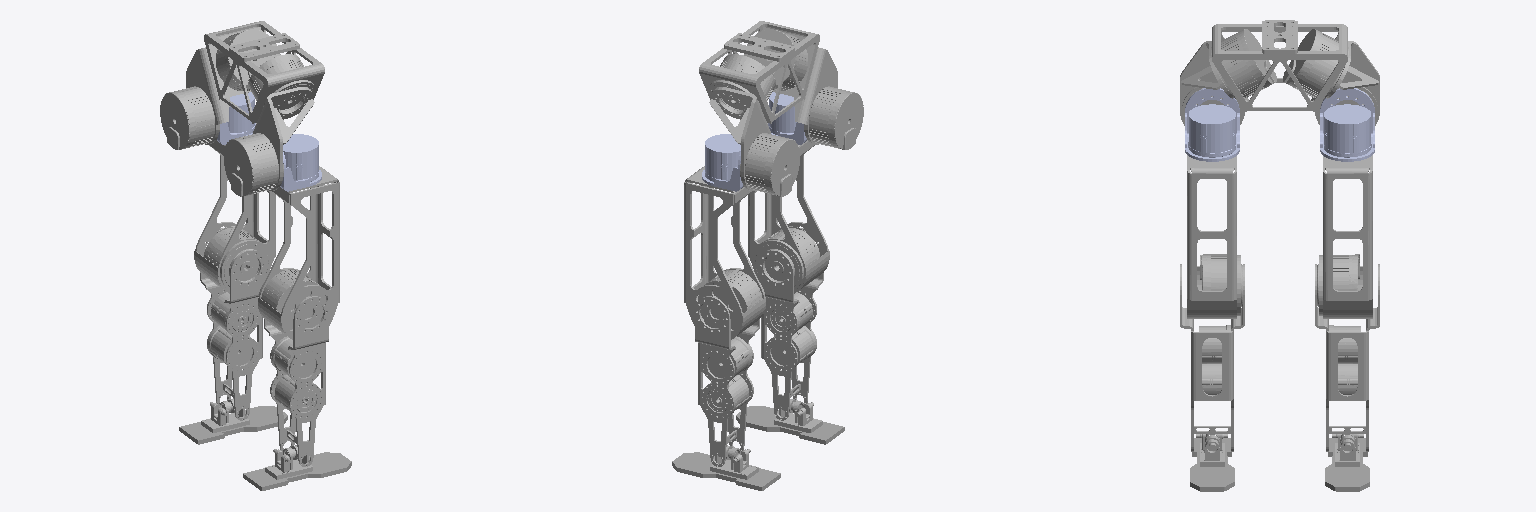
URDF robot description (speed160):
<?xml version="1.0" encoding="utf-8"?>
<!-- This URDF was automatically created by SolidWorks to URDF Exporter! Originally created by Stephen Brawner (brawner@gmail.com) 
     Commit Version: 1.6.0-4-g7f85cfe  Build Version: 1.6.7995.38578
     For more information, please see http://wiki.ros.org/sw_urdf_exporter -->
<robot
  name="speed160">
  <link
    name="base_link">
    <inertial>
      <origin
        xyz="-2.0253E-17 2.5484E-17 0.076322"
        rpy="0 0 0" />
      <mass
        value="7.2549" />
      <inertia
        ixx="0.028957"
        ixy="-1.9355E-19"
        ixz="-8.6363E-18"
        iyy="0.01703"
        iyz="-3.8642E-17"
        izz="0.030167" />
    </inertial>
    <visual>
      <origin
        xyz="0 0 0"
        rpy="0 0 0" />
      <geometry>
        <mesh
          filename="package://speed160/meshes/base_link.STL" />
      </geometry>
      <material
        name="">
        <color
          rgba="0.75294 0.75294 0.75294 1" />
      </material>
    </visual>
    <collision>
      <origin
        xyz="0 0 0"
        rpy="0 0 0" />
      <geometry>
        <mesh
          filename="package://speed160/meshes/base_link.STL" />
      </geometry>
    </collision>
  </link>
  <link
    name="right_hip_pitch">
    <inertial>
      <origin
        xyz="-0.084061 -0.058399 -0.10445"
        rpy="0 0 0" />
      <mass
        value="3.8012" />
      <inertia
        ixx="0.0092356"
        ixy="-0.00041669"
        ixz="-0.00083241"
        iyy="0.0081435"
        iyz="0.00012225"
        izz="0.0065418" />
    </inertial>
    <visual>
      <origin
        xyz="0 0 0"
        rpy="0 0 0" />
      <geometry>
        <mesh
          filename="package://speed160/meshes/right_hip_pitch.STL" />
      </geometry>
      <material
        name="">
        <color
          rgba="0.75294 0.75294 0.75294 1" />
      </material>
    </visual>
    <collision>
      <origin
        xyz="0 0 0"
        rpy="0 0 0" />
      <geometry>
        <mesh
          filename="package://speed160/meshes/right_hip_pitch.STL" />
      </geometry>
    </collision>
  </link>
  <joint
    name="right_hip_pitch_joint"
    type="revolute">
    <origin
      xyz="0 -0.074354 0.069542"
      rpy="0 0 0" />
    <parent
      link="base_link" />
    <child
      link="right_hip_pitch" />
    <axis
      xyz="0 0.86603 0.5" />
    <limit
      lower="-2.618"
      upper="2.618"
      effort="140"
      velocity="5" />
  </joint>
  <link
    name="right_hip_roll">
    <inertial>
      <origin
        xyz="0.092261 2.7756E-17 -0.018654"
        rpy="0 0 0" />
      <mass
        value="2.198" />
      <inertia
        ixx="0.0030256"
        ixy="-2.0877E-19"
        ixz="0.00041018"
        iyy="0.0030613"
        iyz="4.0871E-19"
        izz="0.0032475" />
    </inertial>
    <visual>
      <origin
        xyz="0 0 0"
        rpy="0 0 0" />
      <geometry>
        <mesh
          filename="package://speed160/meshes/right_hip_roll.STL" />
      </geometry>
      <material
        name="">
        <color
          rgba="0.79216 0.81961 0.93333 1" />
      </material>
    </visual>
    <collision>
      <origin
        xyz="0 0 0"
        rpy="0 0 0" />
      <geometry>
        <mesh
          filename="package://speed160/meshes/right_hip_roll.STL" />
      </geometry>
    </collision>
  </link>
  <joint
    name="right_hip_roll_joint"
    type="revolute">
    <origin
      xyz="-0.104 -0.060646 -0.13264"
      rpy="0 0 0" />
    <parent
      link="right_hip_pitch" />
    <child
      link="right_hip_roll" />
    <axis
      xyz="1 0 0" />
    <limit
      lower="-2.094"
      upper="0.8727"
      effort="140"
      velocity="5" />
  </joint>
  <link
    name="right_hip_yaw">
    <inertial>
      <origin
        xyz="0.013525 0.0064029 -0.27472"
        rpy="0 0 0" />
      <mass
        value="4.9199" />
      <inertia
        ixx="0.038644"
        ixy="-0.00038539"
        ixz="-0.00065051"
        iyy="0.04081"
        iyz="-0.0018953"
        izz="0.012657" />
    </inertial>
    <visual>
      <origin
        xyz="0 0 0"
        rpy="0 0 0" />
      <geometry>
        <mesh
          filename="package://speed160/meshes/right_hip_yaw.STL" />
      </geometry>
      <material
        name="">
        <color
          rgba="0.75294 0.75294 0.75294 1" />
      </material>
    </visual>
    <collision>
      <origin
        xyz="0 0 0"
        rpy="0 0 0" />
      <geometry>
        <mesh
          filename="package://speed160/meshes/right_hip_yaw.STL" />
      </geometry>
    </collision>
  </link>
  <joint
    name="right_hip_yaw_joint"
    type="revolute">
    <origin
      xyz="0.1045 0 -0.0135"
      rpy="0 0 0" />
    <parent
      link="right_hip_roll" />
    <child
      link="right_hip_yaw" />
    <axis
      xyz="0 0 1" />
    <limit
      lower="-2.618"
      upper="2.618"
      effort="140"
      velocity="5" />
  </joint>
  <link
    name="right_knee">
    <inertial>
      <origin
        xyz="0.0054816 -0.0185 -0.15453"
        rpy="0 0 0" />
      <mass
        value="3.3922" />
      <inertia
        ixx="0.020574"
        ixy="4.7133E-14"
        ixz="0.00031949"
        iyy="0.018277"
        iyz="1.8231E-16"
        izz="0.0063665" />
    </inertial>
    <visual>
      <origin
        xyz="0 0 0"
        rpy="0 0 0" />
      <geometry>
        <mesh
          filename="package://speed160/meshes/right_knee.STL" />
      </geometry>
      <material
        name="">
        <color
          rgba="0.75294 0.75294 0.75294 1" />
      </material>
    </visual>
    <collision>
      <origin
        xyz="0 0 0"
        rpy="0 0 0" />
      <geometry>
        <mesh
          filename="package://speed160/meshes/right_knee.STL" />
      </geometry>
    </collision>
  </link>
  <joint
    name="right_knee_joint"
    type="revolute">
    <origin
      xyz="0 0.0185 -0.3395"
      rpy="0 0 0" />
    <parent
      link="right_hip_yaw" />
    <child
      link="right_knee" />
    <axis
      xyz="0 1 0" />
    <limit
      lower="-0.087"
      upper="2.583"
      effort="140"
      velocity="5" />
  </joint>
  <link
    name="right_ankle_pitch">
    <inertial>
      <origin
        xyz="-0.016544 1.6067E-06 -0.022535"
        rpy="0 0 0" />
      <mass
        value="0.65223" />
      <inertia
        ixx="0.000169"
        ixy="8.0747E-08"
        ixz="-2.0792E-05"
        iyy="0.00035201"
        iyz="1.8158E-08"
        izz="0.00040372" />
    </inertial>
    <visual>
      <origin
        xyz="0 0 0"
        rpy="0 0 0" />
      <geometry>
        <mesh
          filename="package://speed160/meshes/right_ankle_pitch.STL" />
      </geometry>
      <material
        name="">
        <color
          rgba="0.75294 0.75294 0.75294 1" />
      </material>
    </visual>
    <collision>
      <origin
        xyz="0 0 0"
        rpy="0 0 0" />
      <geometry>
        <mesh
          filename="package://speed160/meshes/right_ankle_pitch.STL" />
      </geometry>
    </collision>
  </link>
  <joint
    name="right_ankle_pitch_joint"
    type="revolute">
    <origin
      xyz="0 -0.0185 -0.347"
      rpy="0 0 0" />
    <parent
      link="right_knee" />
    <child
      link="right_ankle_pitch" />
    <axis
      xyz="0 1 0" />
    <limit
      lower="-1.012"
      upper="0.611"
      effort="42"
      velocity="13.6" />
  </joint>
  <link
    name="right_ankle_roll">
    <inertial>
      <origin
        xyz="0.0083987 -0.00011282 -0.045"
        rpy="0 0 0" />
      <mass
        value="0.48193" />
      <inertia
        ixx="0.00025681"
        ixy="-2.1944E-18"
        ixz="-5.7694E-20"
        iyy="0.0021729"
        iyz="6.275E-22"
        izz="0.0024217" />
    </inertial>
    <visual>
      <origin
        xyz="0 0 0"
        rpy="0 0 0" />
      <geometry>
        <mesh
          filename="package://speed160/meshes/right_ankle_roll.STL" />
      </geometry>
      <material
        name="">
        <color
          rgba="0.69804 0.69804 0.69804 1" />
      </material>
    </visual>
    <collision>
      <origin
        xyz="0 0 0"
        rpy="0 0 0" />
      <geometry>
        <mesh
          filename="package://speed160/meshes/right_ankle_roll.STL" />
      </geometry>
    </collision>
  </link>
  <joint
    name="right_ankle_roll_joint"
    type="revolute">
    <origin
      xyz="0 0 0"
      rpy="0 0 0" />
    <parent
      link="right_ankle_pitch" />
    <child
      link="right_ankle_roll" />
    <axis
      xyz="1 0 0" />
    <limit
      lower="-0.436"
      upper="0.436"
      effort="42"
      velocity="13.6" />
  </joint>
  <link
    name="left_hip_pitch">
    <inertial>
      <origin
        xyz="-0.084061 0.058399 -0.10445"
        rpy="0 0 0" />
      <mass
        value="3.8012" />
      <inertia
        ixx="0.0092356"
        ixy="0.00041669"
        ixz="-0.00083241"
        iyy="0.0081435"
        iyz="-0.00012225"
        izz="0.0065418" />
    </inertial>
    <visual>
      <origin
        xyz="0 0 0"
        rpy="0 0 0" />
      <geometry>
        <mesh
          filename="package://speed160/meshes/left_hip_pitch.STL" />
      </geometry>
      <material
        name="">
        <color
          rgba="0.75294 0.75294 0.75294 1" />
      </material>
    </visual>
    <collision>
      <origin
        xyz="0 0 0"
        rpy="0 0 0" />
      <geometry>
        <mesh
          filename="package://speed160/meshes/left_hip_pitch.STL" />
      </geometry>
    </collision>
  </link>
  <joint
    name="left_hip_pitch_joint"
    type="revolute">
    <origin
      xyz="0 0.074354 0.069542"
      rpy="0 0 0" />
    <parent
      link="base_link" />
    <child
      link="left_hip_pitch" />
    <axis
      xyz="0 0.86603 -0.5" />
    <limit
      lower="-2.618"
      upper="2.618"
      effort="140"
      velocity="5" />
  </joint>
  <link
    name="left_hip_roll">
    <inertial>
      <origin
        xyz="0.09226 -6.4764E-07 -0.018654"
        rpy="0 0 0" />
      <mass
        value="2.198" />
      <inertia
        ixx="0.0030256"
        ixy="-5.3252E-19"
        ixz="0.00041018"
        iyy="0.0030613"
        iyz="-5.8926E-19"
        izz="0.0032475" />
    </inertial>
    <visual>
      <origin
        xyz="0 0 0"
        rpy="0 0 0" />
      <geometry>
        <mesh
          filename="package://speed160/meshes/left_hip_roll.STL" />
      </geometry>
      <material
        name="">
        <color
          rgba="0.79216 0.81961 0.93333 1" />
      </material>
    </visual>
    <collision>
      <origin
        xyz="0 0 0"
        rpy="0 0 0" />
      <geometry>
        <mesh
          filename="package://speed160/meshes/left_hip_roll.STL" />
      </geometry>
    </collision>
  </link>
  <joint
    name="left_hip_roll_joint"
    type="revolute">
    <origin
      xyz="-0.104 0.060646 -0.13264"
      rpy="0 0 0" />
    <parent
      link="left_hip_pitch" />
    <child
      link="left_hip_roll" />
    <axis
      xyz="1 0 0" />
    <limit
      lower="-0.8727"
      upper="2.094"
      effort="140"
      velocity="5" />
  </joint>
  <link
    name="left_hip_yaw">
    <inertial>
      <origin
        xyz="0.013527 -0.006402 -0.27472"
        rpy="0 0 0" />
      <mass
        value="4.9199" />
      <inertia
        ixx="0.038644"
        ixy="0.00038538"
        ixz="-0.00065049"
        iyy="0.04081"
        iyz="0.0018953"
        izz="0.012657" />
    </inertial>
    <visual>
      <origin
        xyz="0 0 0"
        rpy="0 0 0" />
      <geometry>
        <mesh
          filename="package://speed160/meshes/left_hip_yaw.STL" />
      </geometry>
      <material
        name="">
        <color
          rgba="0.75294 0.75294 0.75294 1" />
      </material>
    </visual>
    <collision>
      <origin
        xyz="0 0 0"
        rpy="0 0 0" />
      <geometry>
        <mesh
          filename="package://speed160/meshes/left_hip_yaw.STL" />
      </geometry>
    </collision>
  </link>
  <joint
    name="left_hip_yaw_joint"
    type="revolute">
    <origin
      xyz="0.1045 0 -0.0135"
      rpy="0 0 0" />
    <parent
      link="left_hip_roll" />
    <child
      link="left_hip_yaw" />
    <axis
      xyz="0 0 1" />
    <limit
      lower="-2.618"
      upper="2.618"
      effort="140"
      velocity="5" />
  </joint>
  <link
    name="left_knee">
    <inertial>
      <origin
        xyz="0.0054816 0.0185 -0.15453"
        rpy="0 0 0" />
      <mass
        value="3.3922" />
      <inertia
        ixx="0.020574"
        ixy="-9.2639E-14"
        ixz="0.00031949"
        iyy="0.018277"
        iyz="1.6747E-16"
        izz="0.0063665" />
    </inertial>
    <visual>
      <origin
        xyz="0 0 0"
        rpy="0 0 0" />
      <geometry>
        <mesh
          filename="package://speed160/meshes/left_knee.STL" />
      </geometry>
      <material
        name="">
        <color
          rgba="0.75294 0.75294 0.75294 1" />
      </material>
    </visual>
    <collision>
      <origin
        xyz="0 0 0"
        rpy="0 0 0" />
      <geometry>
        <mesh
          filename="package://speed160/meshes/left_knee.STL" />
      </geometry>
    </collision>
  </link>
  <joint
    name="left_knee_joint"
    type="revolute">
    <origin
      xyz="0 -0.018499 -0.3395"
      rpy="0 0 0" />
    <parent
      link="left_hip_yaw" />
    <child
      link="left_knee" />
    <axis
      xyz="0 1 0" />
    <limit
      lower="-0.087"
      upper="2.583"
      effort="140"
      velocity="5" />
  </joint>
  <link
    name="left_ankle_pitch">
    <inertial>
      <origin
        xyz="-0.016544 1.6067E-06 -0.022535"
        rpy="0 0 0" />
      <mass
        value="0.65223" />
      <inertia
        ixx="0.000169"
        ixy="8.0747E-08"
        ixz="-2.0792E-05"
        iyy="0.00035201"
        iyz="1.8158E-08"
        izz="0.00040372" />
    </inertial>
    <visual>
      <origin
        xyz="0 0 0"
        rpy="0 0 0" />
      <geometry>
        <mesh
          filename="package://speed160/meshes/left_ankle_pitch.STL" />
      </geometry>
      <material
        name="">
        <color
          rgba="0.75294 0.75294 0.75294 1" />
      </material>
    </visual>
    <collision>
      <origin
        xyz="0 0 0"
        rpy="0 0 0" />
      <geometry>
        <mesh
          filename="package://speed160/meshes/left_ankle_pitch.STL" />
      </geometry>
    </collision>
  </link>
  <joint
    name="left_ankle_pitch_joint"
    type="revolute">
    <origin
      xyz="0 0.018726 -0.347"
      rpy="0 0 0" />
    <parent
      link="left_knee" />
    <child
      link="left_ankle_pitch" />
    <axis
      xyz="0 1 0" />
    <limit
      lower="-1.012"
      upper="0.611"
      effort="42"
      velocity="13.6" />
  </joint>
  <link
    name="left_ankle_roll">
    <inertial>
      <origin
        xyz="0.0083987 -0.00011282 -0.045"
        rpy="0 0 0" />
      <mass
        value="0.48193" />
      <inertia
        ixx="0.00025681"
        ixy="1.8672E-18"
        ixz="-6.971E-20"
        iyy="0.0021729"
        iyz="3.9128E-20"
        izz="0.0024217" />
    </inertial>
    <visual>
      <origin
        xyz="0 0 0"
        rpy="0 0 0" />
      <geometry>
        <mesh
          filename="package://speed160/meshes/left_ankle_roll.STL" />
      </geometry>
      <material
        name="">
        <color
          rgba="0.69804 0.69804 0.69804 1" />
      </material>
    </visual>
    <collision>
      <origin
        xyz="0 0 0"
        rpy="0 0 0" />
      <geometry>
        <mesh
          filename="package://speed160/meshes/left_ankle_roll.STL" />
      </geometry>
    </collision>
  </link>
  <joint
    name="left_ankle_roll_joint"
    type="revolute">
    <origin
      xyz="0 0 0"
      rpy="0 0 0" />
    <parent
      link="left_ankle_pitch" />
    <child
      link="left_ankle_roll" />
    <axis
      xyz="1 0 0" />
    <limit
      lower="-0.436"
      upper="0.436"
      effort="42"
      velocity="13.6" />
  </joint>
</robot>

--- Facts derived from the render (not from the file) ---
The picture shows the robot from 3 angles, left to right: view 1: azimuth 30°, elevation 25°; view 2: azimuth 150°, elevation 25°; view 3: azimuth 270°, elevation 25°; orthographic projection.
Robot: speed160 — 13 links, 12 joints (12 revolute); root link base_link; default pose: all joints at 0.
Links seen in each view (by area): view 1: right_hip_yaw, base_link, right_knee, left_knee, left_hip_yaw, right_hip_pitch, left_hip_pitch, right_hip_roll, right_ankle_roll, left_ankle_roll, left_hip_roll, right_ankle_pitch (+1 smaller); view 2: left_hip_yaw, base_link, left_knee, right_knee, right_hip_yaw, left_hip_pitch, right_hip_pitch, left_hip_roll, left_ankle_roll, right_ankle_roll, right_hip_roll, left_ankle_pitch (+1 smaller); view 3: base_link, right_hip_yaw, left_hip_yaw, left_knee, right_knee, right_hip_roll, left_hip_roll, right_hip_pitch, left_hip_pitch, left_ankle_roll, right_ankle_roll, right_ankle_pitch (+1 smaller).
Boxes of the visible links, left/top/right/bottom form: right_hip_yaw: left=258, top=166, right=339, bottom=339; base_link: left=204, top=21, right=324, bottom=123; right_knee: left=264, top=296, right=328, bottom=466; left_knee: left=200, top=228, right=265, bottom=420; left_hip_yaw: left=194, top=123, right=275, bottom=293; right_hip_pitch: left=224, top=87, right=314, bottom=196; left_hip_pitch: left=160, top=47, right=229, bottom=149; right_hip_roll: left=280, top=134, right=321, bottom=191; right_ankle_roll: left=243, top=452, right=351, bottom=490; left_ankle_roll: left=179, top=406, right=287, bottom=444; left_hip_roll: left=217, top=92, right=255, bottom=144; right_ankle_pitch: left=265, top=445, right=312, bottom=479; left_hip_yaw: left=684, top=166, right=765, bottom=339; base_link: left=699, top=21, right=819, bottom=123; left_knee: left=695, top=296, right=759, bottom=466; right_knee: left=758, top=228, right=823, bottom=420; right_hip_yaw: left=748, top=123, right=829, bottom=293; left_hip_pitch: left=709, top=87, right=799, bottom=196; right_hip_pitch: left=794, top=47, right=863, bottom=149; left_hip_roll: left=702, top=134, right=743, bottom=191; left_ankle_roll: left=672, top=452, right=780, bottom=490; right_ankle_roll: left=736, top=406, right=844, bottom=444; right_hip_roll: left=768, top=92, right=806, bottom=144; left_ankle_pitch: left=710, top=445, right=758, bottom=479; base_link: left=1211, top=20, right=1348, bottom=111; right_hip_yaw: left=1187, top=155, right=1242, bottom=318; left_hip_yaw: left=1317, top=155, right=1372, bottom=318; left_knee: left=1315, top=264, right=1379, bottom=451; right_knee: left=1180, top=264, right=1244, bottom=451; right_hip_roll: left=1185, top=88, right=1239, bottom=161; left_hip_roll: left=1320, top=88, right=1374, bottom=161; right_hip_pitch: left=1180, top=41, right=1252, bottom=125; left_hip_pitch: left=1307, top=41, right=1379, bottom=125; left_ankle_roll: left=1325, top=438, right=1369, bottom=491; right_ankle_roll: left=1190, top=438, right=1234, bottom=491; right_ankle_pitch: left=1196, top=434, right=1227, bottom=466.
Size in the robot's own frame: 0.2691 by 0.401 by 0.9553 metres.
Meshes: 13 distinct files referenced, 13 mesh visuals loaded (13 binary STL).
